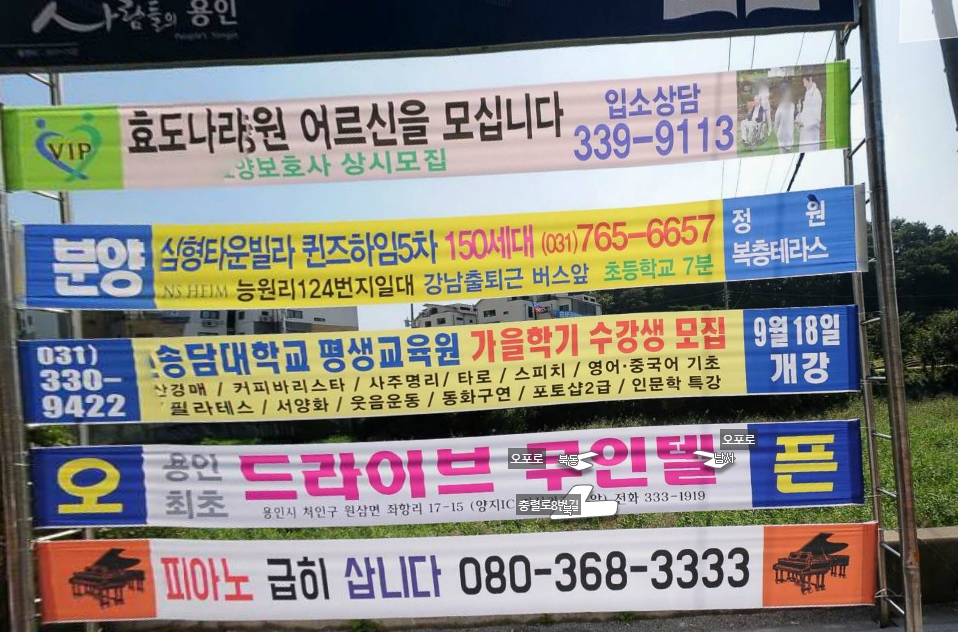banner: (1, 298, 868, 447), (1, 175, 886, 318), (1, 67, 882, 188), (1, 510, 897, 628), (1, 404, 896, 521)
